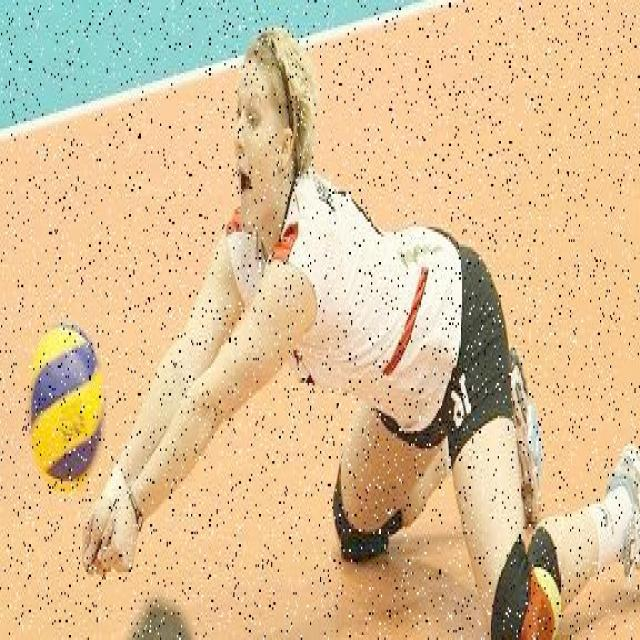fall: (109, 50, 637, 630)
